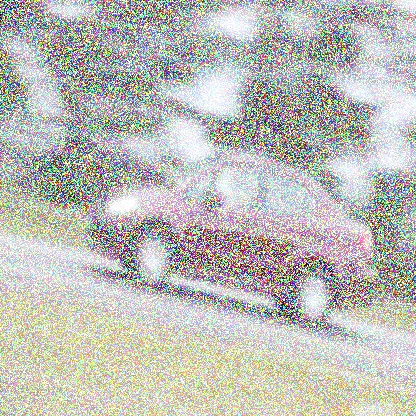Vehicle: (83, 149, 381, 330)
